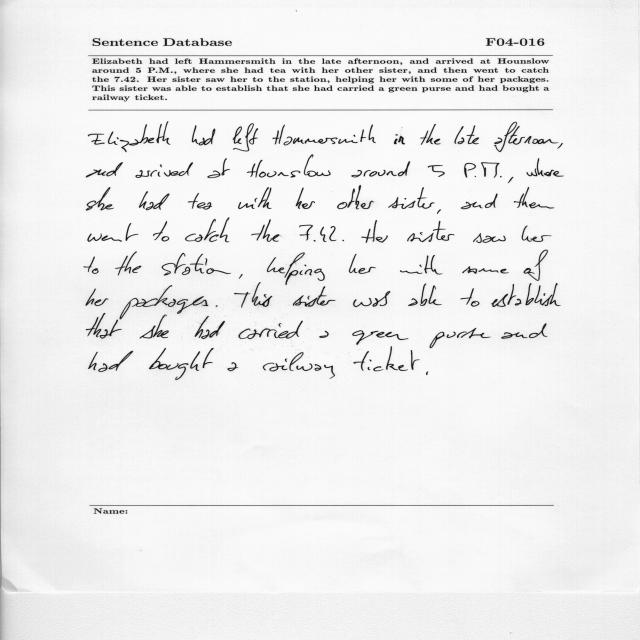word: (120, 285, 209, 320), (89, 122, 171, 152), (273, 125, 376, 146), (149, 348, 214, 380), (494, 122, 559, 152), (263, 352, 335, 379), (247, 155, 331, 178), (267, 252, 325, 285), (491, 283, 561, 307), (353, 347, 420, 372), (162, 253, 231, 276), (430, 328, 491, 348), (238, 321, 303, 339), (185, 218, 229, 243), (464, 162, 514, 183), (389, 187, 435, 209), (351, 161, 410, 178), (235, 282, 273, 308), (408, 221, 455, 242), (88, 223, 138, 242), (86, 313, 122, 339), (135, 162, 193, 178), (89, 351, 133, 372), (337, 186, 374, 210), (293, 286, 335, 307), (514, 187, 554, 209), (353, 330, 409, 345), (400, 255, 442, 274), (408, 284, 442, 306), (524, 250, 548, 281), (501, 323, 547, 339), (238, 187, 271, 209), (233, 124, 258, 152), (140, 315, 169, 339), (195, 316, 225, 339), (86, 187, 114, 211), (252, 219, 281, 242), (115, 252, 142, 276), (300, 225, 337, 242), (361, 220, 388, 243), (86, 162, 123, 178), (353, 291, 390, 307), (139, 191, 170, 210), (461, 194, 497, 210), (349, 254, 376, 274), (537, 158, 564, 177), (522, 225, 552, 242), (454, 126, 479, 145), (192, 126, 215, 146), (207, 158, 230, 178), (420, 124, 441, 145), (188, 193, 212, 210), (296, 188, 315, 209), (86, 288, 108, 306), (462, 266, 509, 274), (461, 288, 480, 307), (473, 233, 506, 243), (153, 222, 169, 242), (84, 256, 99, 274), (428, 165, 445, 177), (394, 134, 405, 145), (228, 362, 239, 371), (527, 169, 538, 177), (319, 331, 329, 338), (557, 143, 563, 148), (437, 209, 441, 214), (239, 274, 243, 279), (426, 372, 428, 375), (216, 305, 218, 307), (342, 240, 344, 241)
